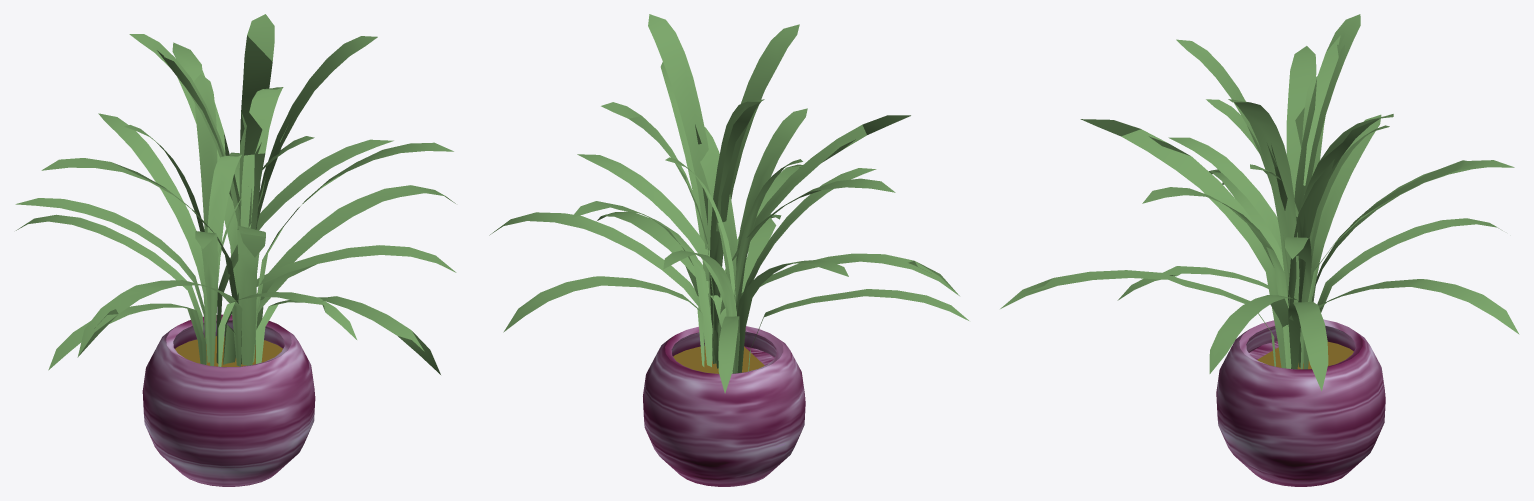
File: sweethome3d-contributions-plant-250.glb
3 renders of one model, left to right at view 1: azimuth 30°, elevation 25°; view 2: azimuth 150°, elevation 25°; view 3: azimuth 270°, elevation 25°, orthographic. The views are drawn at different scales.
Parts seen in each view (by area): view 1: Potplant2_1, Potplant2_2, Potplant2_3; view 2: Potplant2_1, Potplant2_2, Potplant2_3; view 3: Potplant2_1, Potplant2_2, Potplant2_3.
Part boxes in pixels (left/top/right/bottom): Potplant2_1: left=15, top=14, right=456, bottom=374; Potplant2_2: left=142, top=314, right=315, bottom=486; Potplant2_3: left=175, top=336, right=282, bottom=367; Potplant2_1: left=489, top=14, right=968, bottom=393; Potplant2_2: left=643, top=326, right=805, bottom=486; Potplant2_3: left=673, top=346, right=764, bottom=373; Potplant2_1: left=1000, top=14, right=1519, bottom=391; Potplant2_2: left=1216, top=319, right=1385, bottom=486; Potplant2_3: left=1257, top=341, right=1353, bottom=369.
Size of the model in its own units: 96.68 by 85.35 by 96.19.
Materials: 3 (1 with a texture image).
